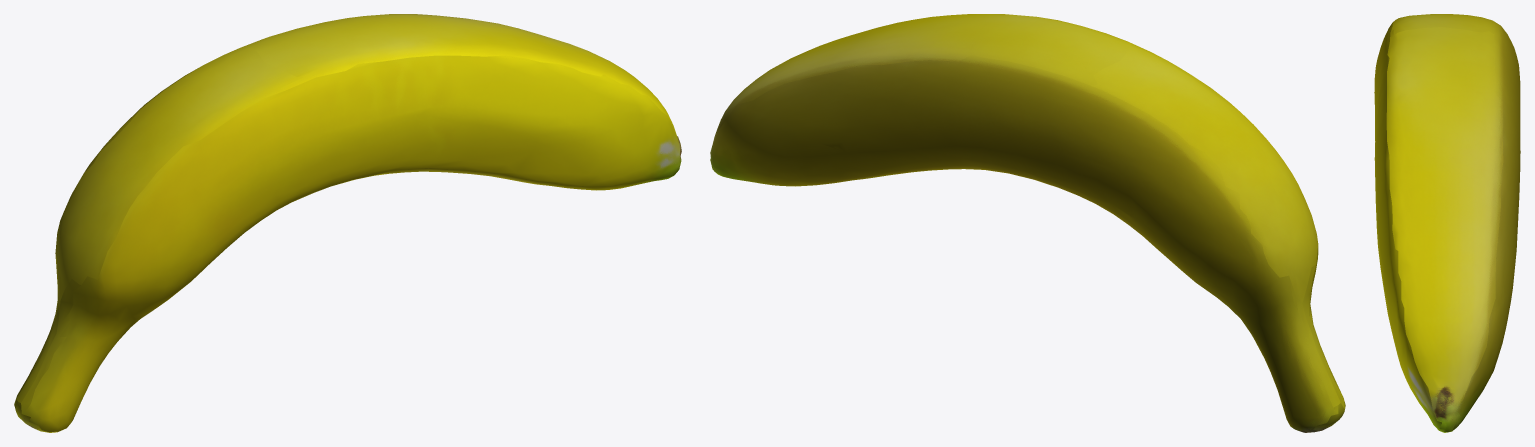
The model's file is banana.obj.
3 renders of one model, left to right at view 1: azimuth 30°, elevation 25°; view 2: azimuth 150°, elevation 25°; view 3: azimuth 270°, elevation 25°, orthographic. The views are drawn at different scales.
Size of the model in its own units: 0.1972 by 0.0948 by 0.0388.
1 material, 1 textured.
